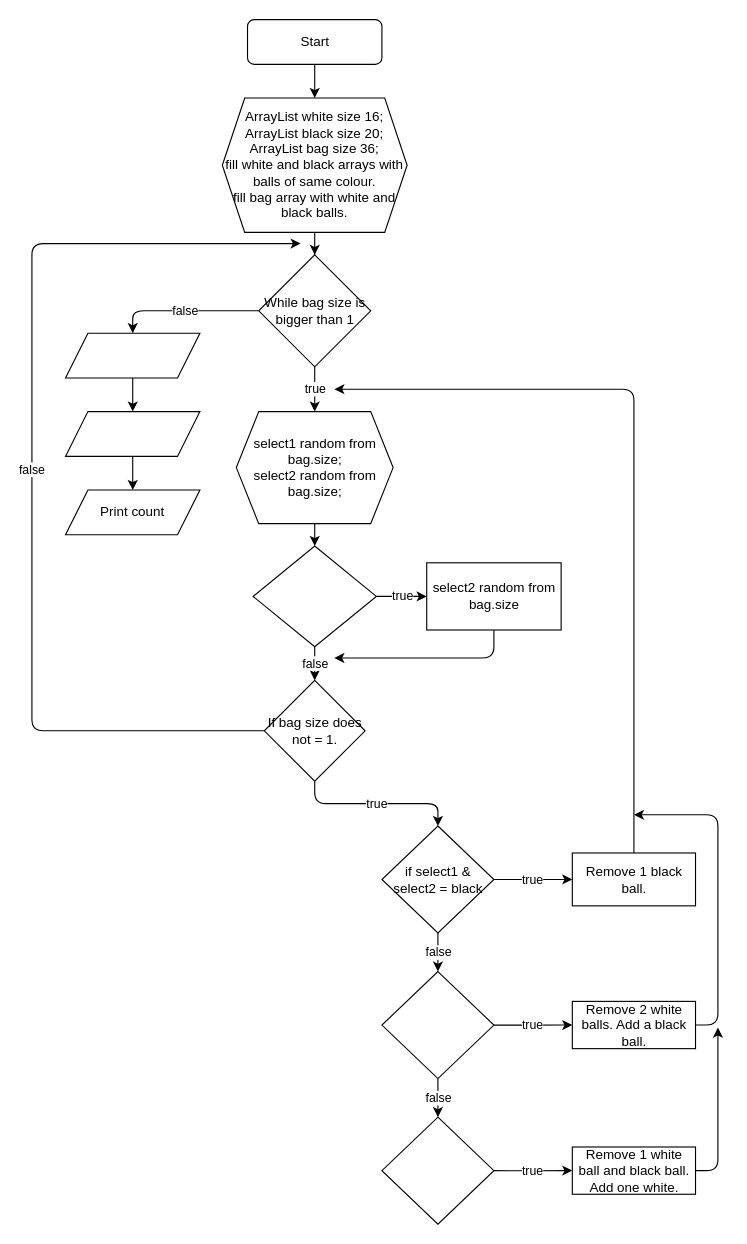
This 747x1244 diagram has some shape labels left out. The centre of each missing label's shape, as x and y in pixels:
if select1 & select2 = white: pixel 437 1024
If the colours are different.: pixel 437 1170
Print bag size: pixel 132 355
Print last remaining ball is:: pixel 132 433
while select2 == select1: pixel 314 596
